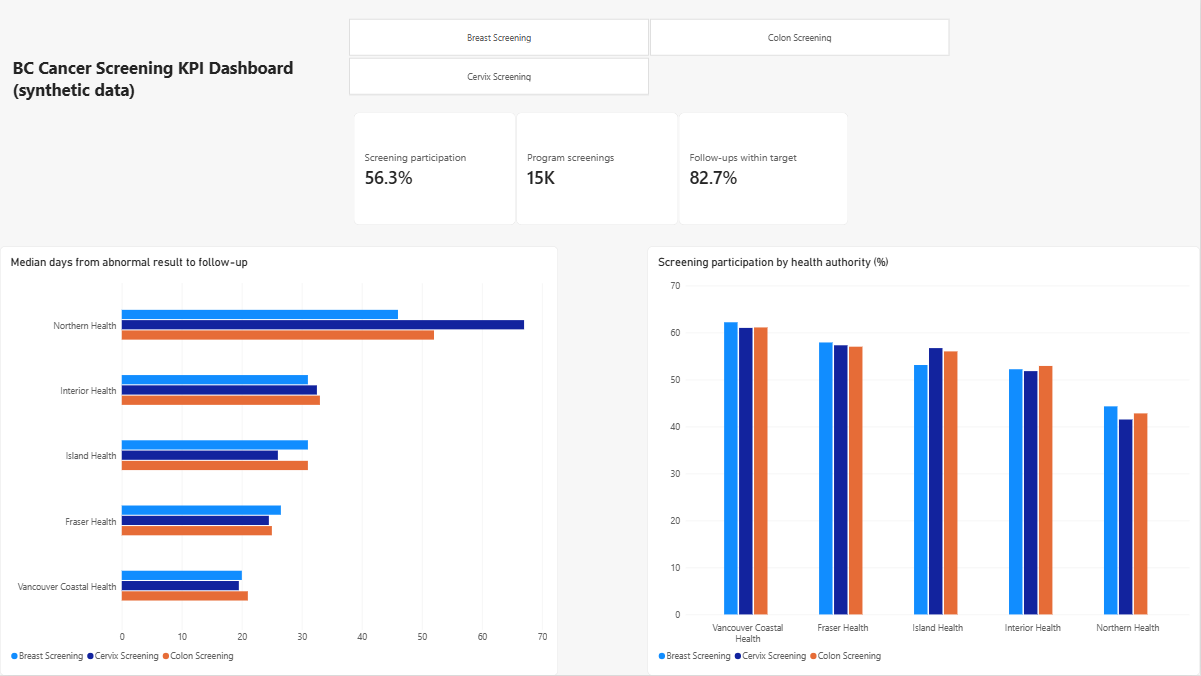

What the dashboard file says about the page in this screenshot:
{"tool":"powerbi","page":{"name":"Page 1","canvas":[1920,1080],"ordinal":0},"visuals":[{"type":"clusteredColumnChart","title":"Screening participation by health authority (%)","fields":{"Category":["rpt v_participation.region"],"Series":["rpt v_participation.program_name"],"Y":["Sum(rpt v_participation.participation_pct)"]},"box":[1036.5,394.9,884.3,686.9],"z":0},{"type":"clusteredBarChart","title":"Median days from abnormal result to follow-up","fields":{"Category":["rpt v_followup_wait.region"],"Series":["rpt v_followup_wait.program_name"],"Y":["Sum(rpt v_followup_wait.median_wait_days)"]},"box":[0,394.9,892.6,686.9],"z":1},{"type":"cardVisual","fields":{"Data":["rpt v_participation.Overall Participation %"]},"box":[565,180,259.1,181],"z":3},{"type":"cardVisual","fields":{"Data":["Sum(rpt v_participation.screened_people)"]},"box":[825,180,259.1,181],"z":4},{"type":"cardVisual","fields":{"Data":["rpt v_followup_wait.Within Target %"]},"box":[1085,180,271.5,181],"z":5},{"type":"slicer","fields":{"Values":["program.program_name"]},"box":[537.5,27.5,1000,125],"z":6},{"type":"textbox","box":[20,90,457.5,90],"z":7}]}

Visuals, with their boxes in screenshot pixels (x1, y1, x2, y2), scaled from the page's 1920x1080 canvas onto the 1201x676 screenshot:
"Screening participation by health authority (%)" clusteredColumnChart: crop(648, 247, 1200, 675)
"Median days from abnormal result to follow-up" clusteredBarChart: crop(0, 247, 558, 675)
cardVisual - rpt v_participation.Overall Participation %: crop(353, 113, 515, 226)
cardVisual - Sum(rpt v_participation.screened_people): crop(516, 113, 678, 226)
cardVisual - rpt v_followup_wait.Within Target %: crop(679, 113, 849, 226)
slicer - program.program_name: crop(336, 17, 962, 95)
textbox: crop(13, 56, 299, 113)
